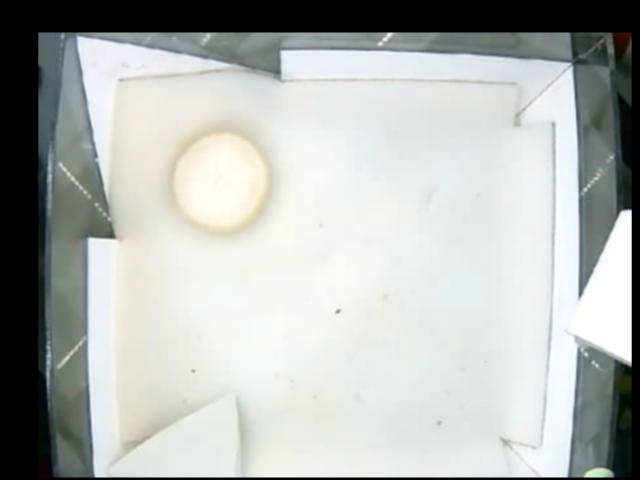China: (101, 391, 243, 477)
Mooli: (168, 128, 271, 233)
